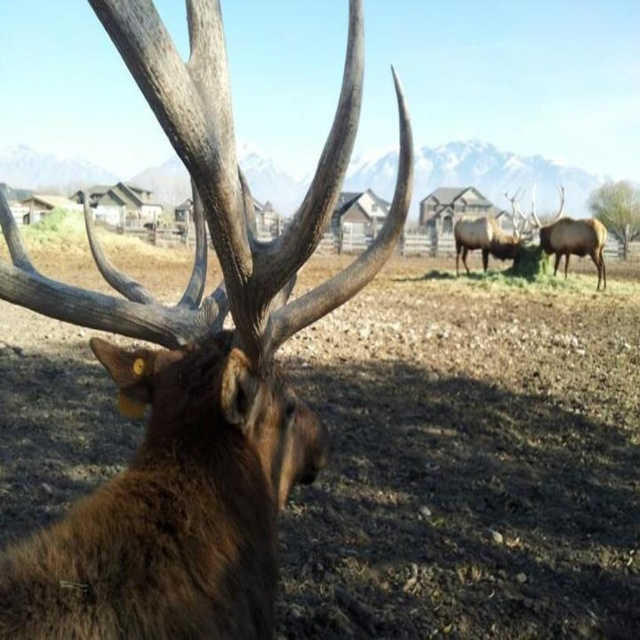Deer: (0, 0, 414, 640), (529, 186, 607, 292), (454, 189, 528, 276)
